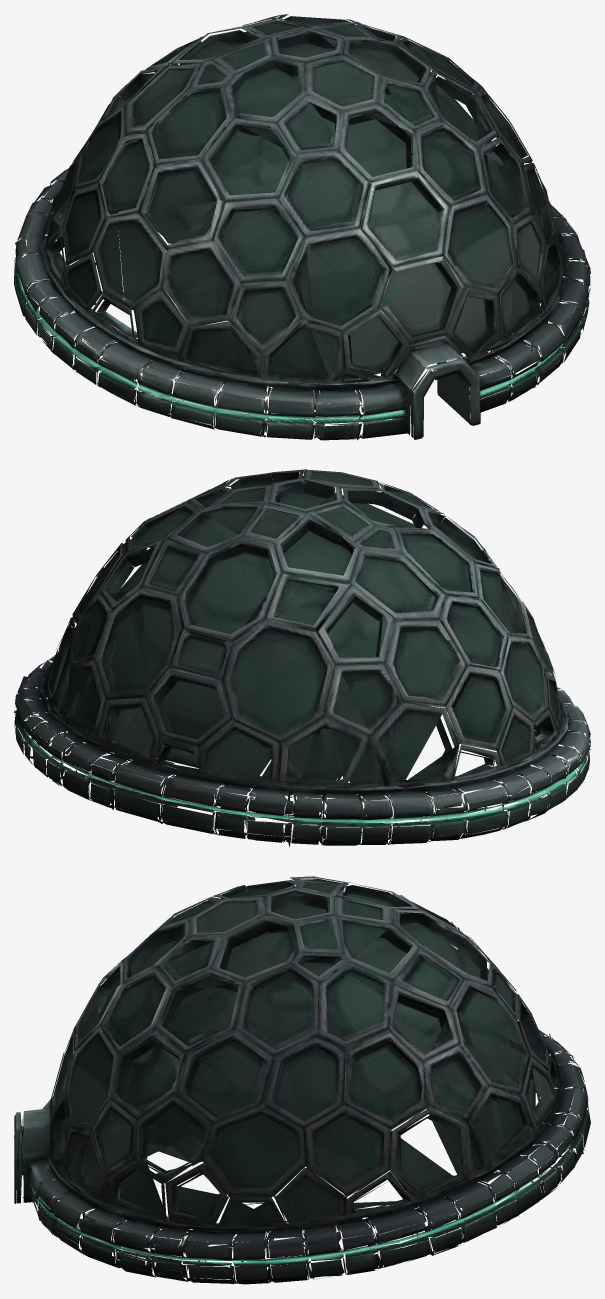
Rendered from moon_alien_dome_geodesic.glb.
3 renders of one model, top to bottom at view 1: azimuth 30°, elevation 25°; view 2: azimuth 150°, elevation 25°; view 3: azimuth 270°, elevation 25°, orthographic.
Visible parts, largest first — view 1: moon_alien_dome_geodesic; view 2: moon_alien_dome_geodesic; view 3: moon_alien_dome_geodesic.
Boxes of the visible parts, x1=… form: moon_alien_dome_geodesic: x1=14, y1=14, x2=590, y2=440; moon_alien_dome_geodesic: x1=14, y1=469, x2=590, y2=847; moon_alien_dome_geodesic: x1=14, y1=876, x2=590, y2=1284.
Bounding box in the file's own units: 20.04 × 10.98 × 20.02.
Materials: 1 (1 with a texture image).
